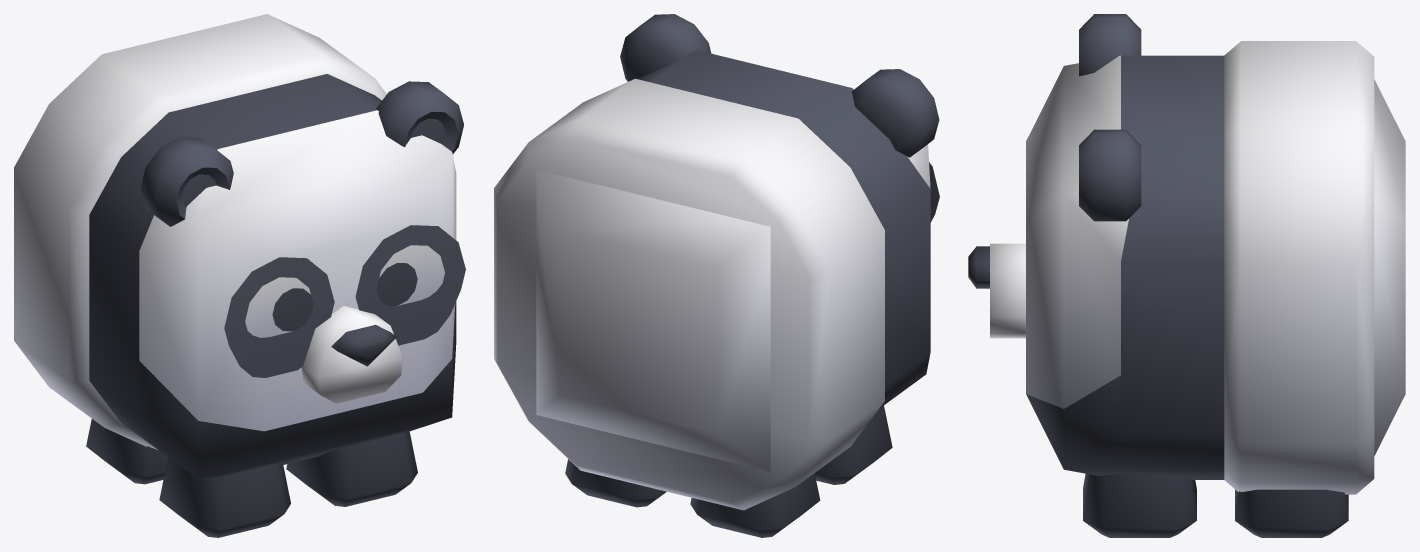
Rendered from seri 1 model 3(panda).glb.
The picture shows the model from 3 angles, left to right: view 1: azimuth 30°, elevation 25°; view 2: azimuth 150°, elevation 25°; view 3: azimuth 270°, elevation 25°; orthographic projection. The views are drawn at different scales.
Parts seen in each view (by area): view 1: body, leg-front-right, leg-front-left, leg-back-right; view 2: body, leg-back-right, leg-front-right, leg-back-left; view 3: body, leg-front-left, leg-back-left.
Part boxes in pixels (x1,y1,x2,y2): body: (14,14,465,480); leg-front-right: (159,457,290,537); leg-front-left: (286,431,417,506); leg-back-right: (86,419,167,484); body: (494,14,939,510); leg-back-right: (690,473,820,537); leg-front-right: (814,405,892,484); leg-back-left: (565,459,666,507); body: (968,14,1405,494); leg-front-left: (1083,473,1196,537); leg-back-left: (1235,489,1348,537).
Size of the model in its own units: 1.34 by 1.5 by 1.44.
Materials: 1 (1 with a texture image).
